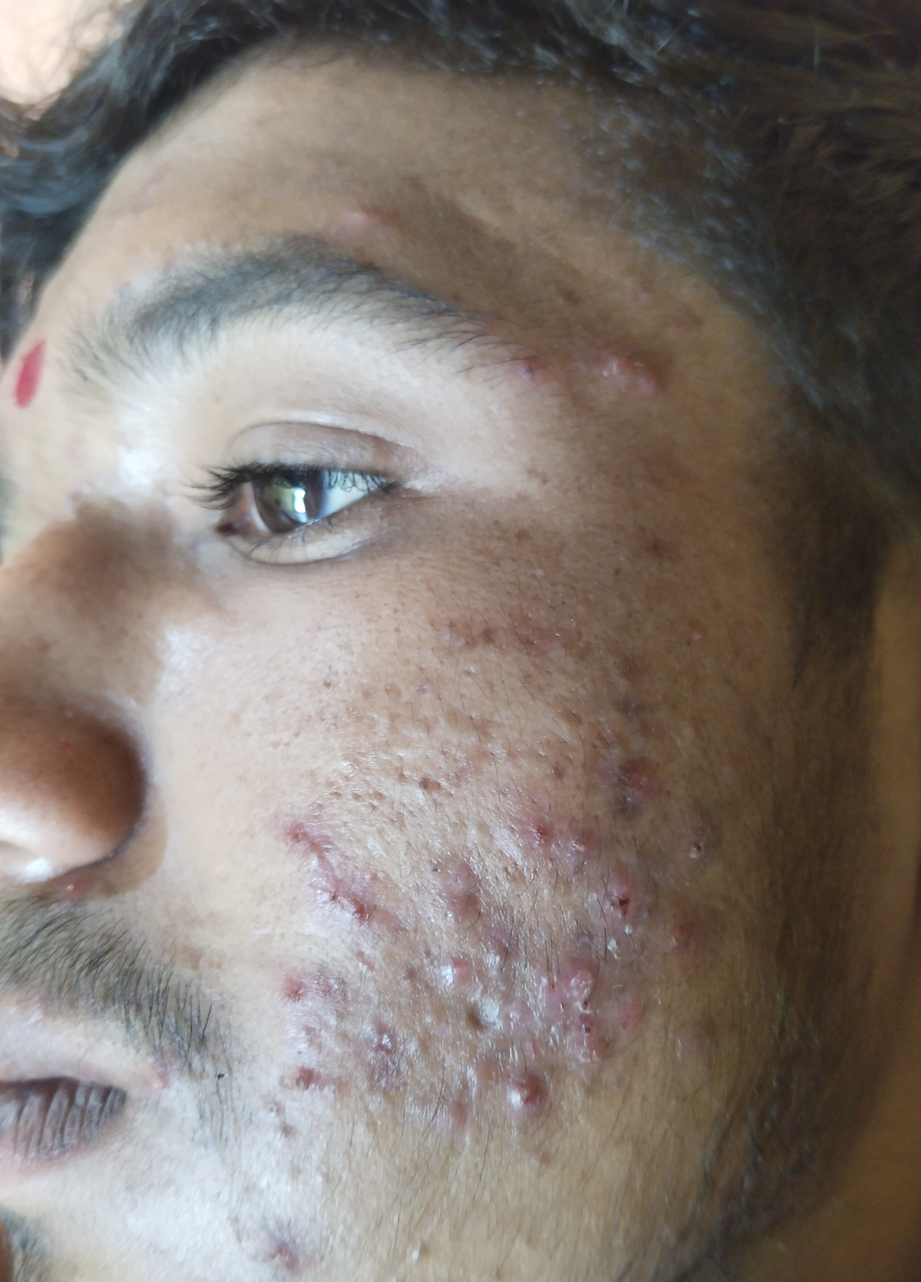papule: (584, 329, 696, 424), (284, 959, 369, 1040), (242, 1209, 331, 1282), (606, 739, 675, 824), (502, 805, 584, 875), (282, 813, 356, 883), (331, 864, 390, 947), (284, 1050, 339, 1122)
pustule: (426, 936, 479, 1014), (493, 1048, 542, 1126)
